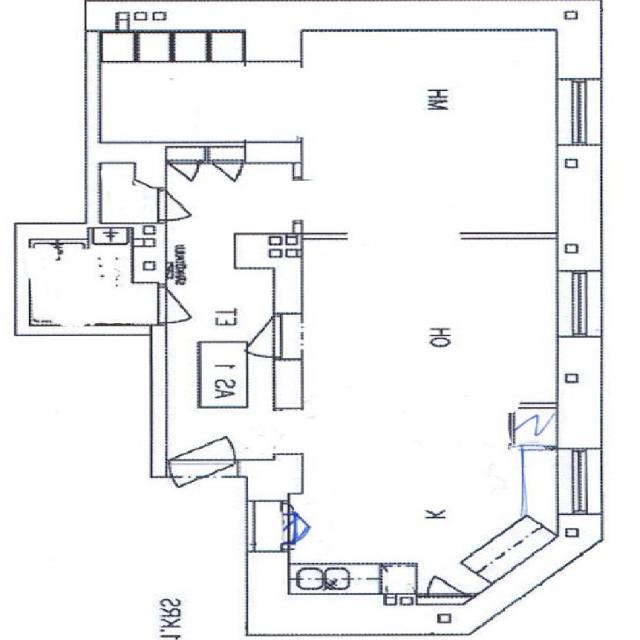door: (173, 417, 235, 478), (173, 460, 235, 520), (216, 316, 282, 356), (160, 287, 218, 322), (282, 509, 338, 544), (158, 190, 210, 220), (428, 568, 465, 598), (213, 160, 243, 184), (170, 160, 200, 184)
